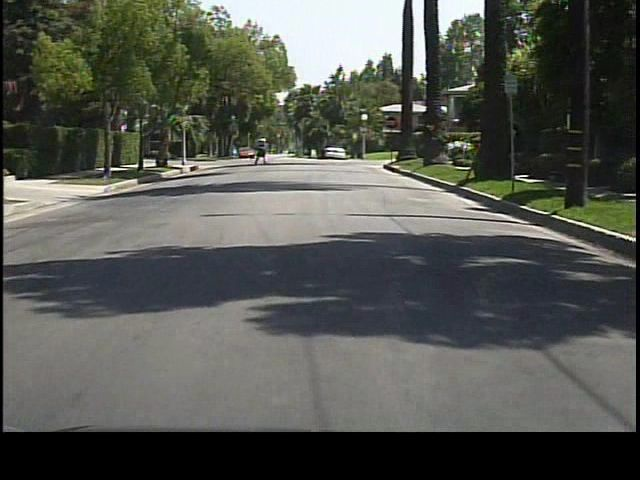person: (255, 136, 268, 167)
